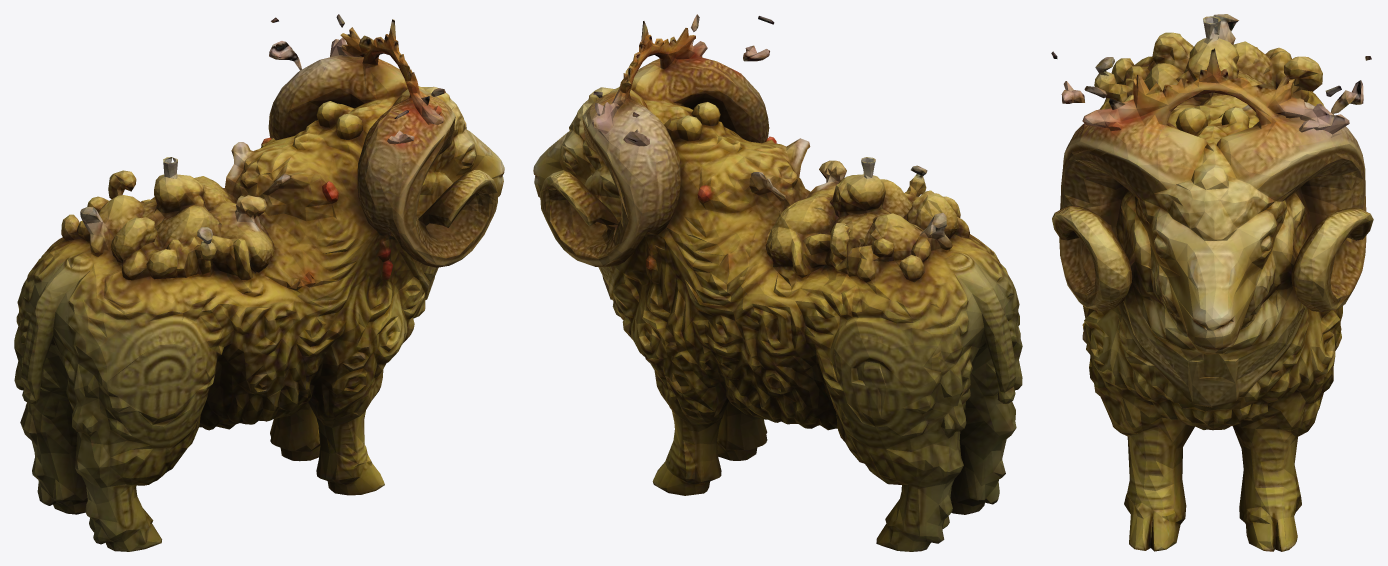
The model's file is emberlamb__aureateFlock.glb.
The picture shows the model from 3 angles, left to right: view 1: azimuth 30°, elevation 25°; view 2: azimuth 150°, elevation 25°; view 3: azimuth 270°, elevation 25°; orthographic projection. The views are drawn at different scales.
Parts seen in each view (by area): view 1: world; view 2: world; view 3: world.
Boxes of the visible parts, x1,y1,x2,y2 form: world: [14, 14, 504, 551]; world: [533, 14, 1022, 551]; world: [1051, 14, 1373, 551].
Size of the model in its own units: 0.9999 by 0.8678 by 0.4801.
1 material, 1 textured.
